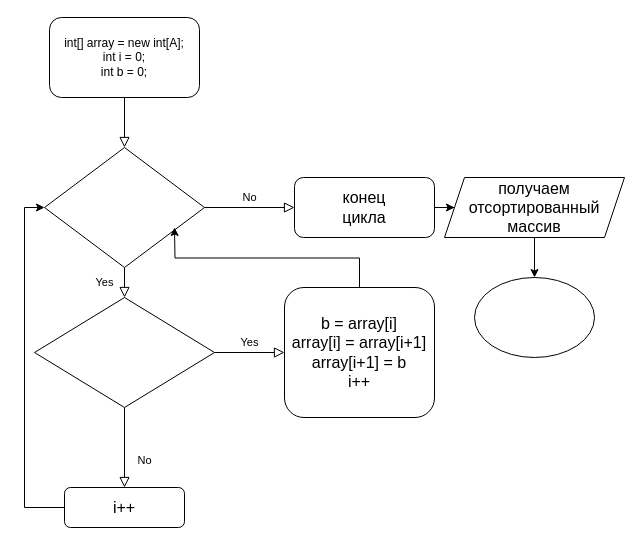
The diagram is 642 pixels wide and 545 high, and some of its shapes have lost their labels. Here are the shapes that lost their labels. From the top down, the centre of each, then its label:
point (124, 207): i< A -1;
point (534, 317): конец
point (124, 352): if (array[i] < array[i+1])
